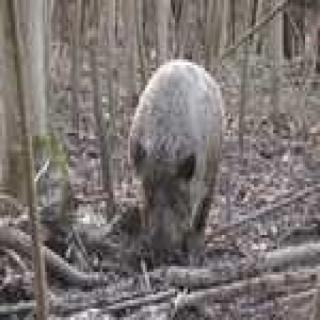Pig: (94, 49, 246, 276)
